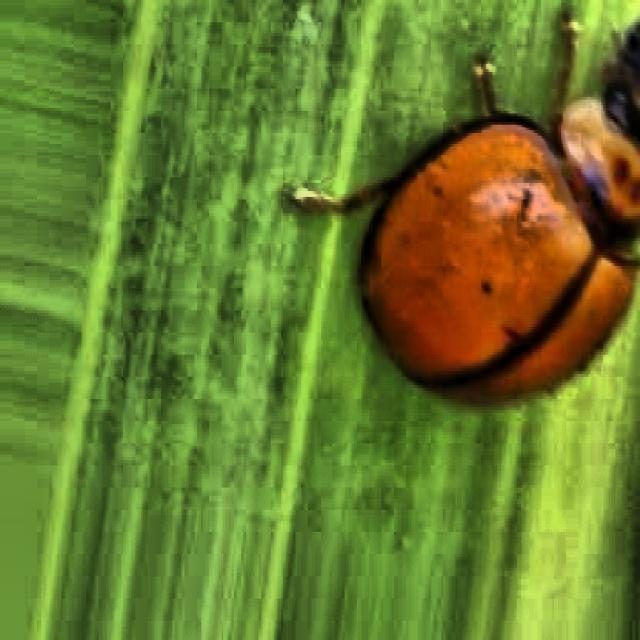Ladybug: (289, 6, 640, 454)
